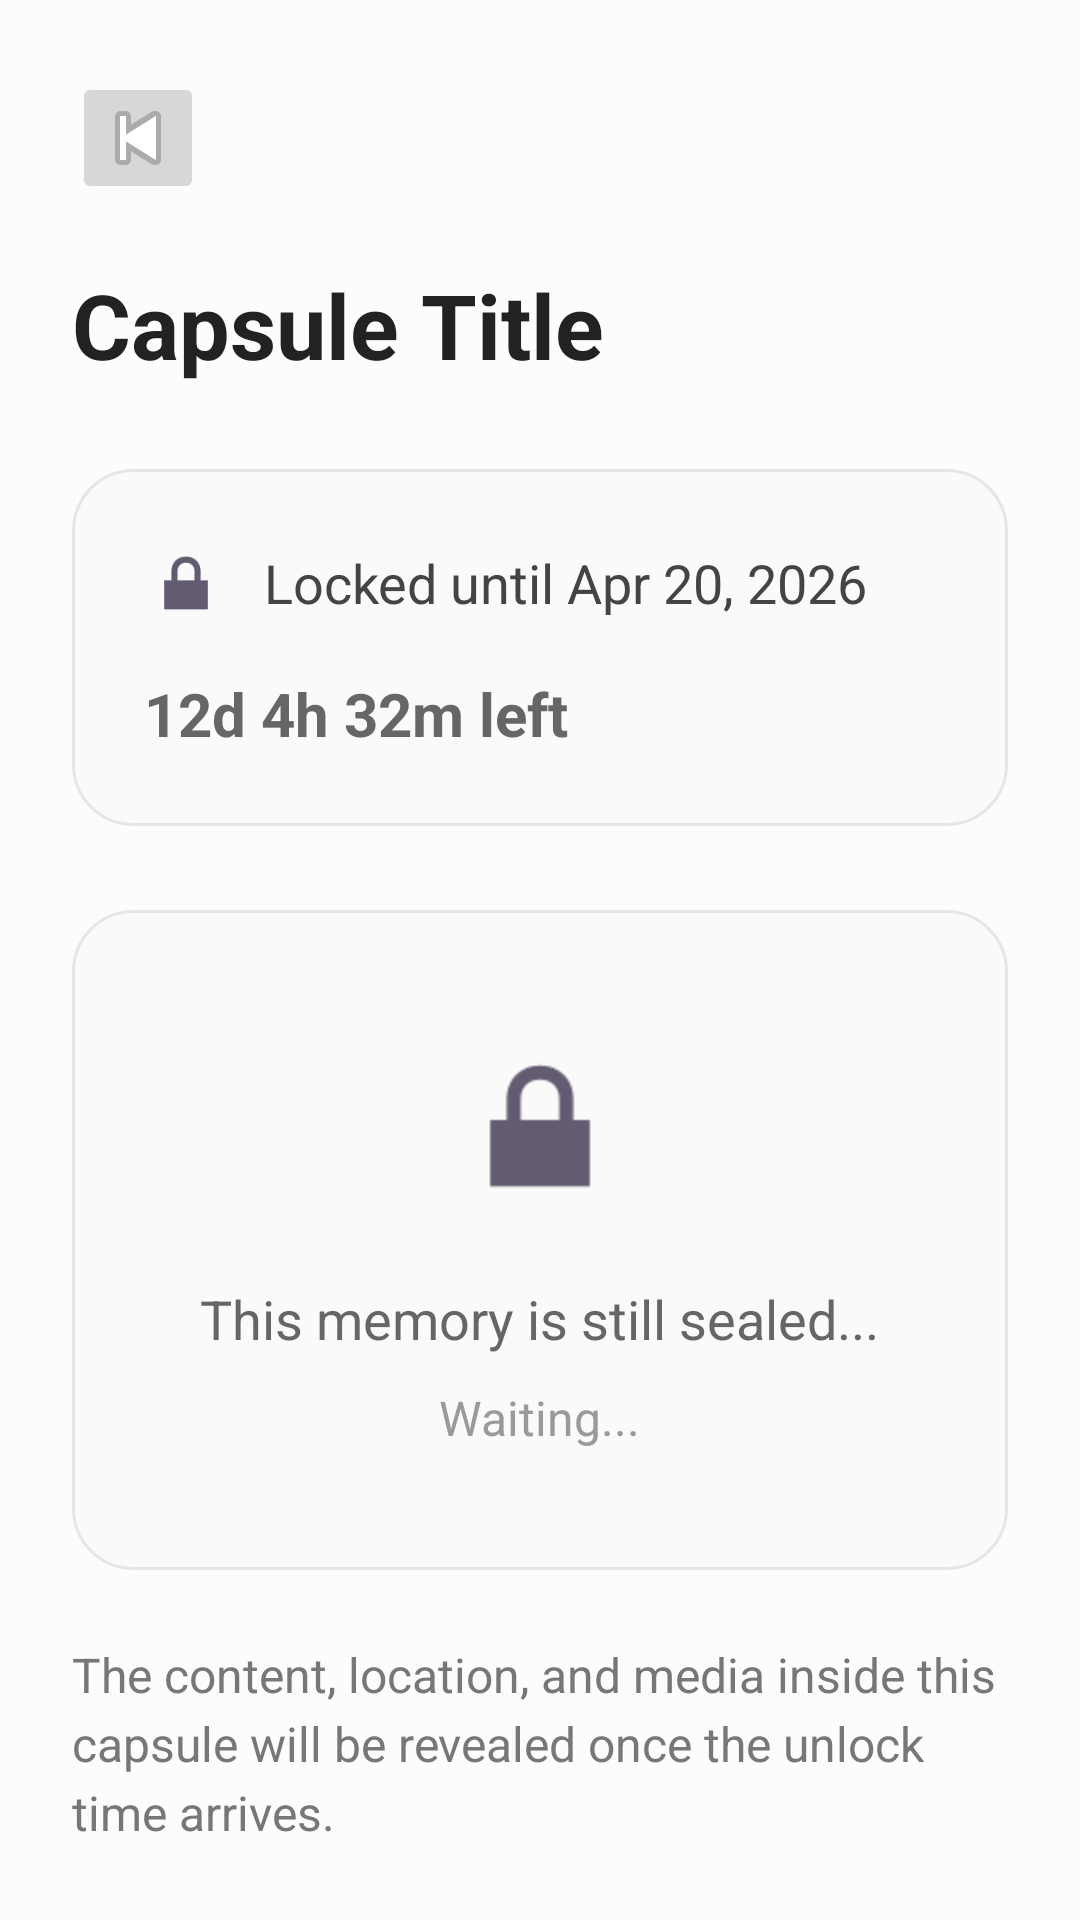

Icons on this 1080 x 1920 Android screen, each with its box as (x1, y1, x2, y2):
Back: (84, 90, 192, 186)
